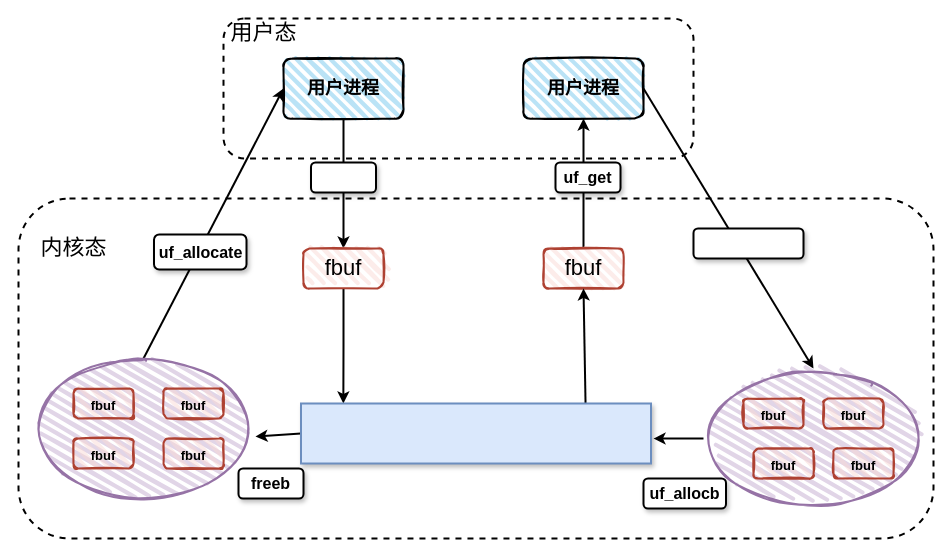
Some shapes in this 951 by 556 pixel diagram are drawn without their labels. The shapes that lost their labels are listed below. From the top down, each one's centre as x and y in pixels, then its label:
the point at 344,178: uf_write
the point at 749,244: uf_deallocate
the point at 477,434: I/O 子系统
